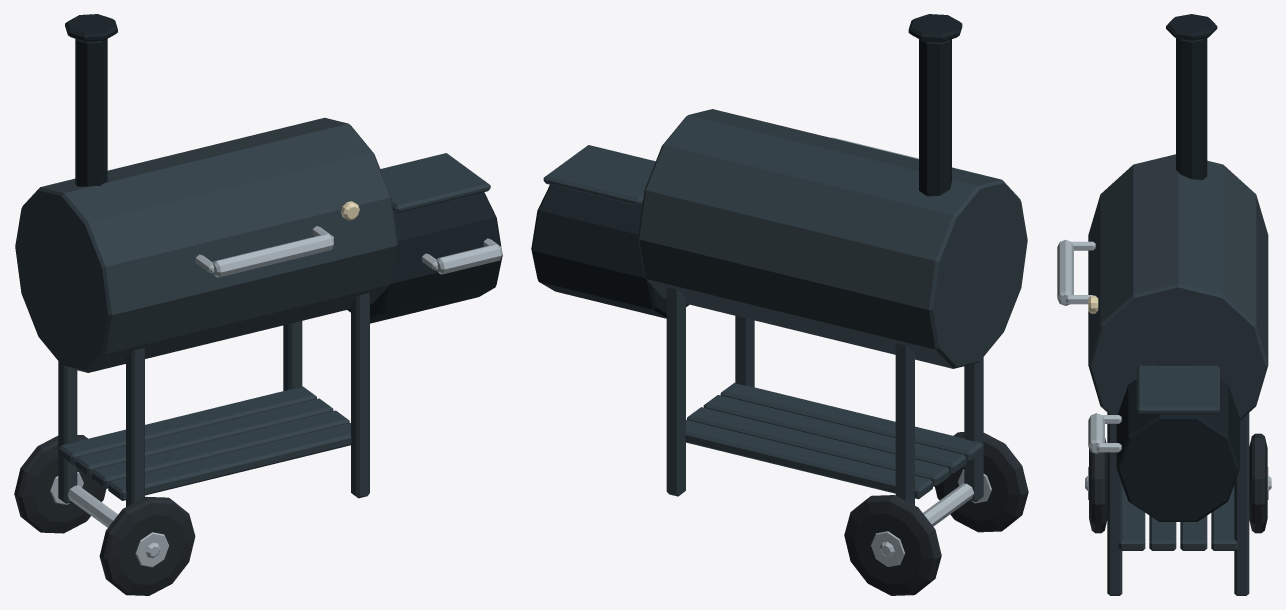
File: b11_offset_barrel_smoker.glb
3 views of the same model, side by side, from view 1: azimuth 30°, elevation 25°; view 2: azimuth 150°, elevation 25°; view 3: azimuth 270°, elevation 25° (orthographic). The views are drawn at different scales.
Visible parts, largest first — view 1: b11_offset_barrel_smoker; view 2: b11_offset_barrel_smoker; view 3: b11_offset_barrel_smoker.
Boxes of the visible parts, bbox=[...] form: b11_offset_barrel_smoker: bbox=[14, 14, 502, 595]; b11_offset_barrel_smoker: bbox=[531, 14, 1028, 595]; b11_offset_barrel_smoker: bbox=[1057, 14, 1271, 595].
Size of the model in its own units: 1.34 by 1.66 by 0.643.
